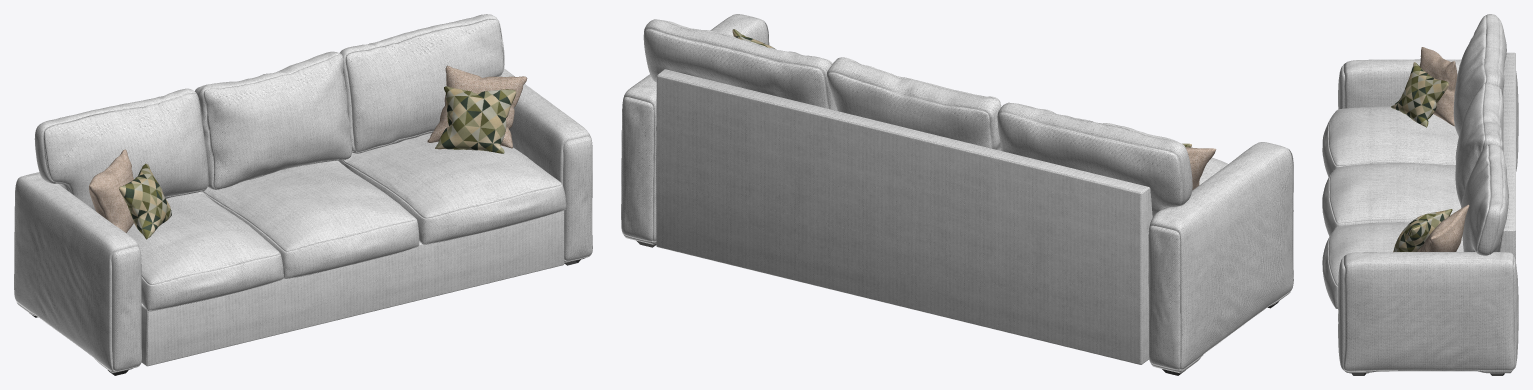
File: Sofa_Straight_2.glb
The picture shows the model from 3 angles, left to right: view 1: azimuth 30°, elevation 25°; view 2: azimuth 150°, elevation 25°; view 3: azimuth 270°, elevation 25°; orthographic projection. The views are drawn at different scales.
Visible parts, largest first — view 1: canapé.001; view 2: canapé.001; view 3: canapé.001.
Boxes of the visible parts, box(x1,y1,x2,y2) form: canapé.001: box(14, 14, 592, 375); canapé.001: box(621, 14, 1293, 375); canapé.001: box(1322, 14, 1518, 375).
Size of the model in its own units: 2.37 by 0.8942 by 0.9377.
5 materials, 4 textured.
